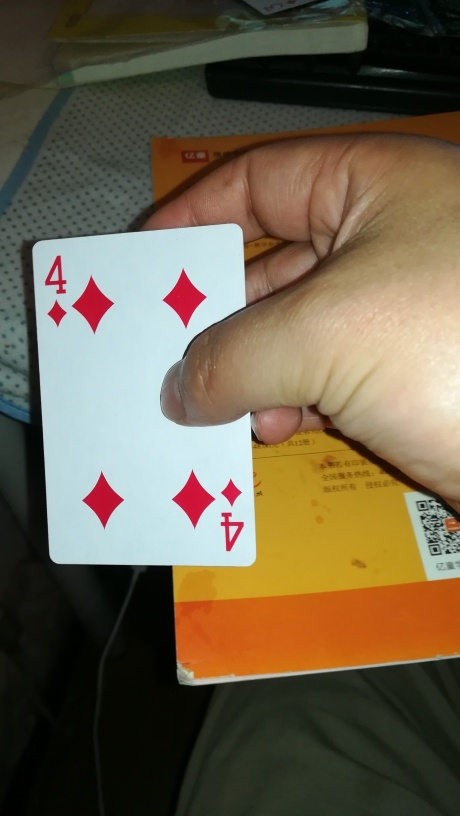fk 4: (28, 222, 257, 579)
